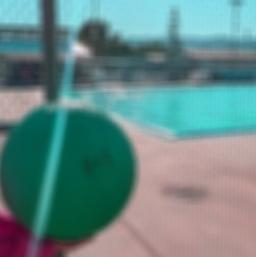algae: (0, 101, 140, 240)
